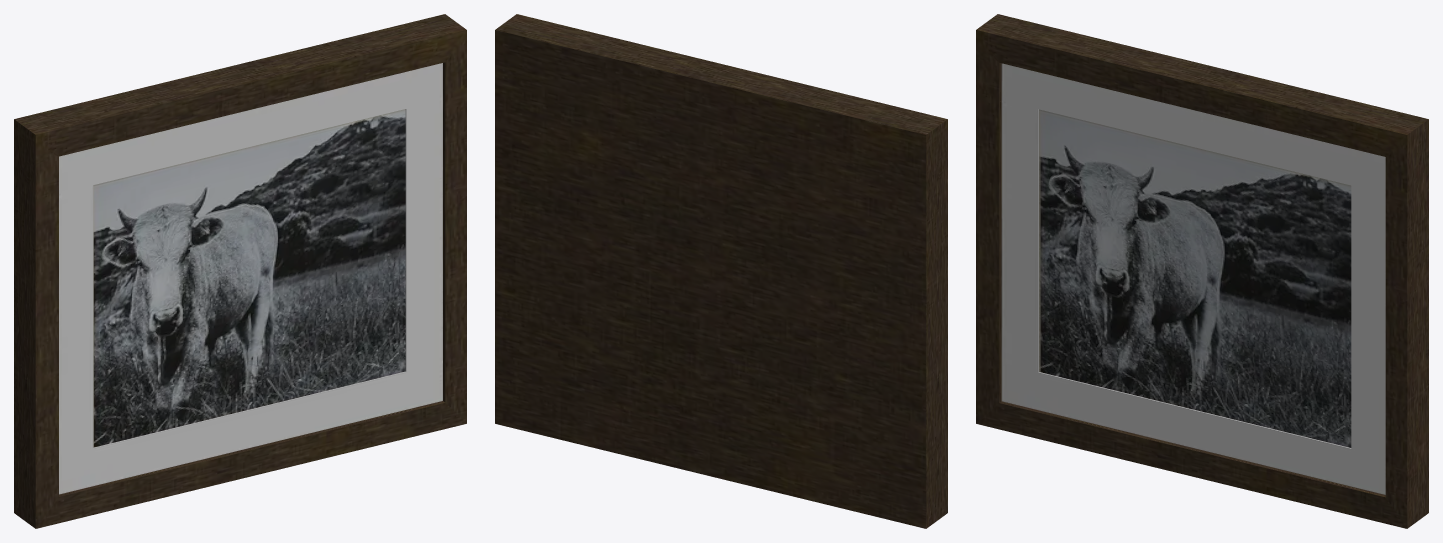
The model's file is abo-B073P1GGSL.glb.
3 views of the same model, side by side, from view 1: azimuth 30°, elevation 25°; view 2: azimuth 150°, elevation 25°; view 3: azimuth 330°, elevation 25° (orthographic).
Size of the model in its own units: 0.378 by 0.33 by 0.033.
Materials: 1 (1 with a texture image).
